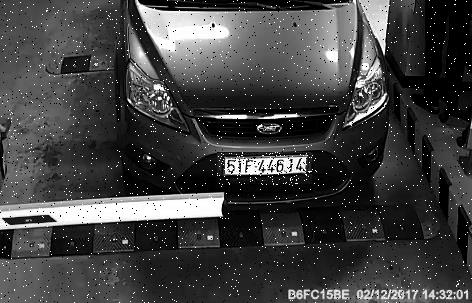License-plate: (219, 154, 315, 187)
